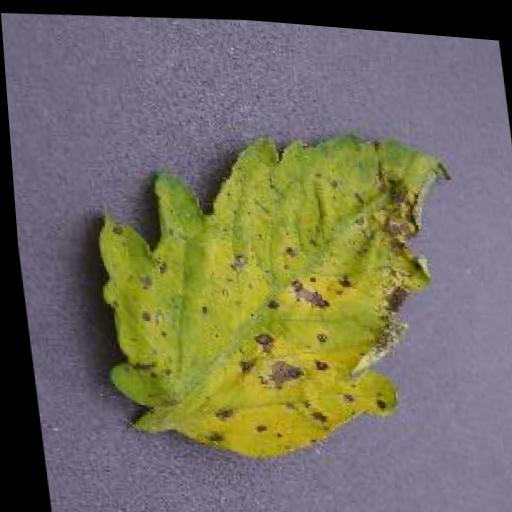Septoria: (79, 110, 483, 477)
